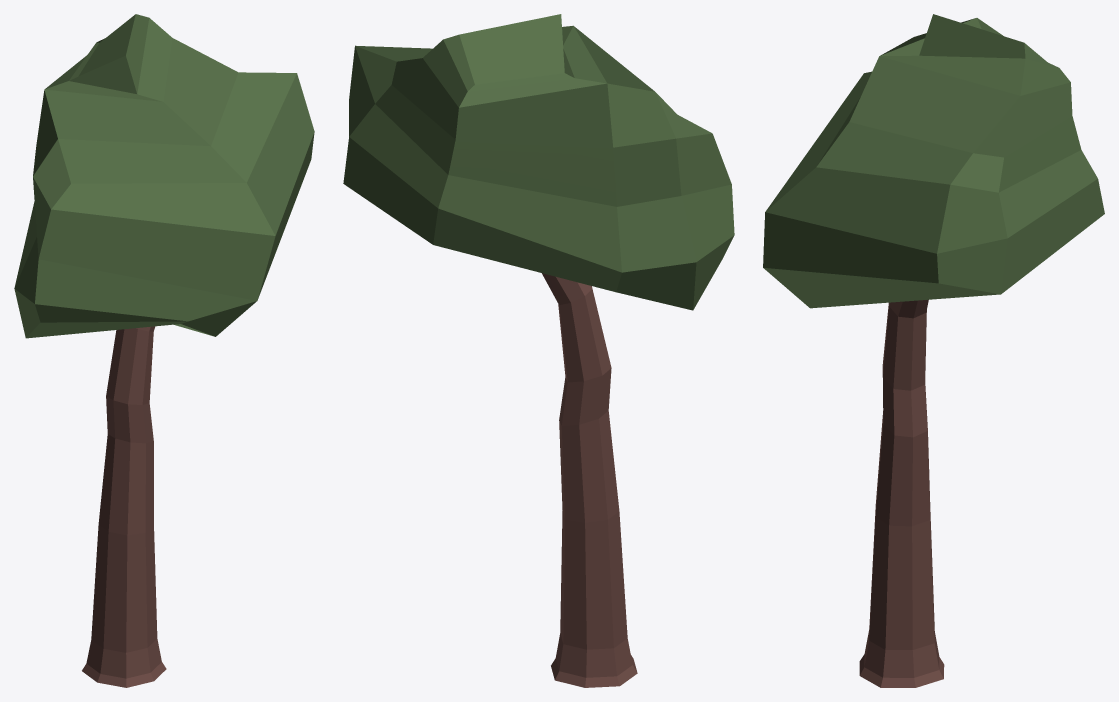
The model's file is Apple_2.glb.
The picture shows the model from 3 angles, left to right: view 1: azimuth 30°, elevation 25°; view 2: azimuth 150°, elevation 25°; view 3: azimuth 270°, elevation 25°; orthographic projection. The views are drawn at different scales.
Visible parts, largest first — view 1: Apple_2; view 2: Apple_2; view 3: Apple_2.
Part boxes in pixels (x1=…): Apple_2: x1=14, y1=14, x2=314, y2=687; Apple_2: x1=343, y1=14, x2=734, y2=687; Apple_2: x1=763, y1=14, x2=1104, y2=687.
Size of the model in its own units: 0.5149 by 0.9389 by 0.4378.
